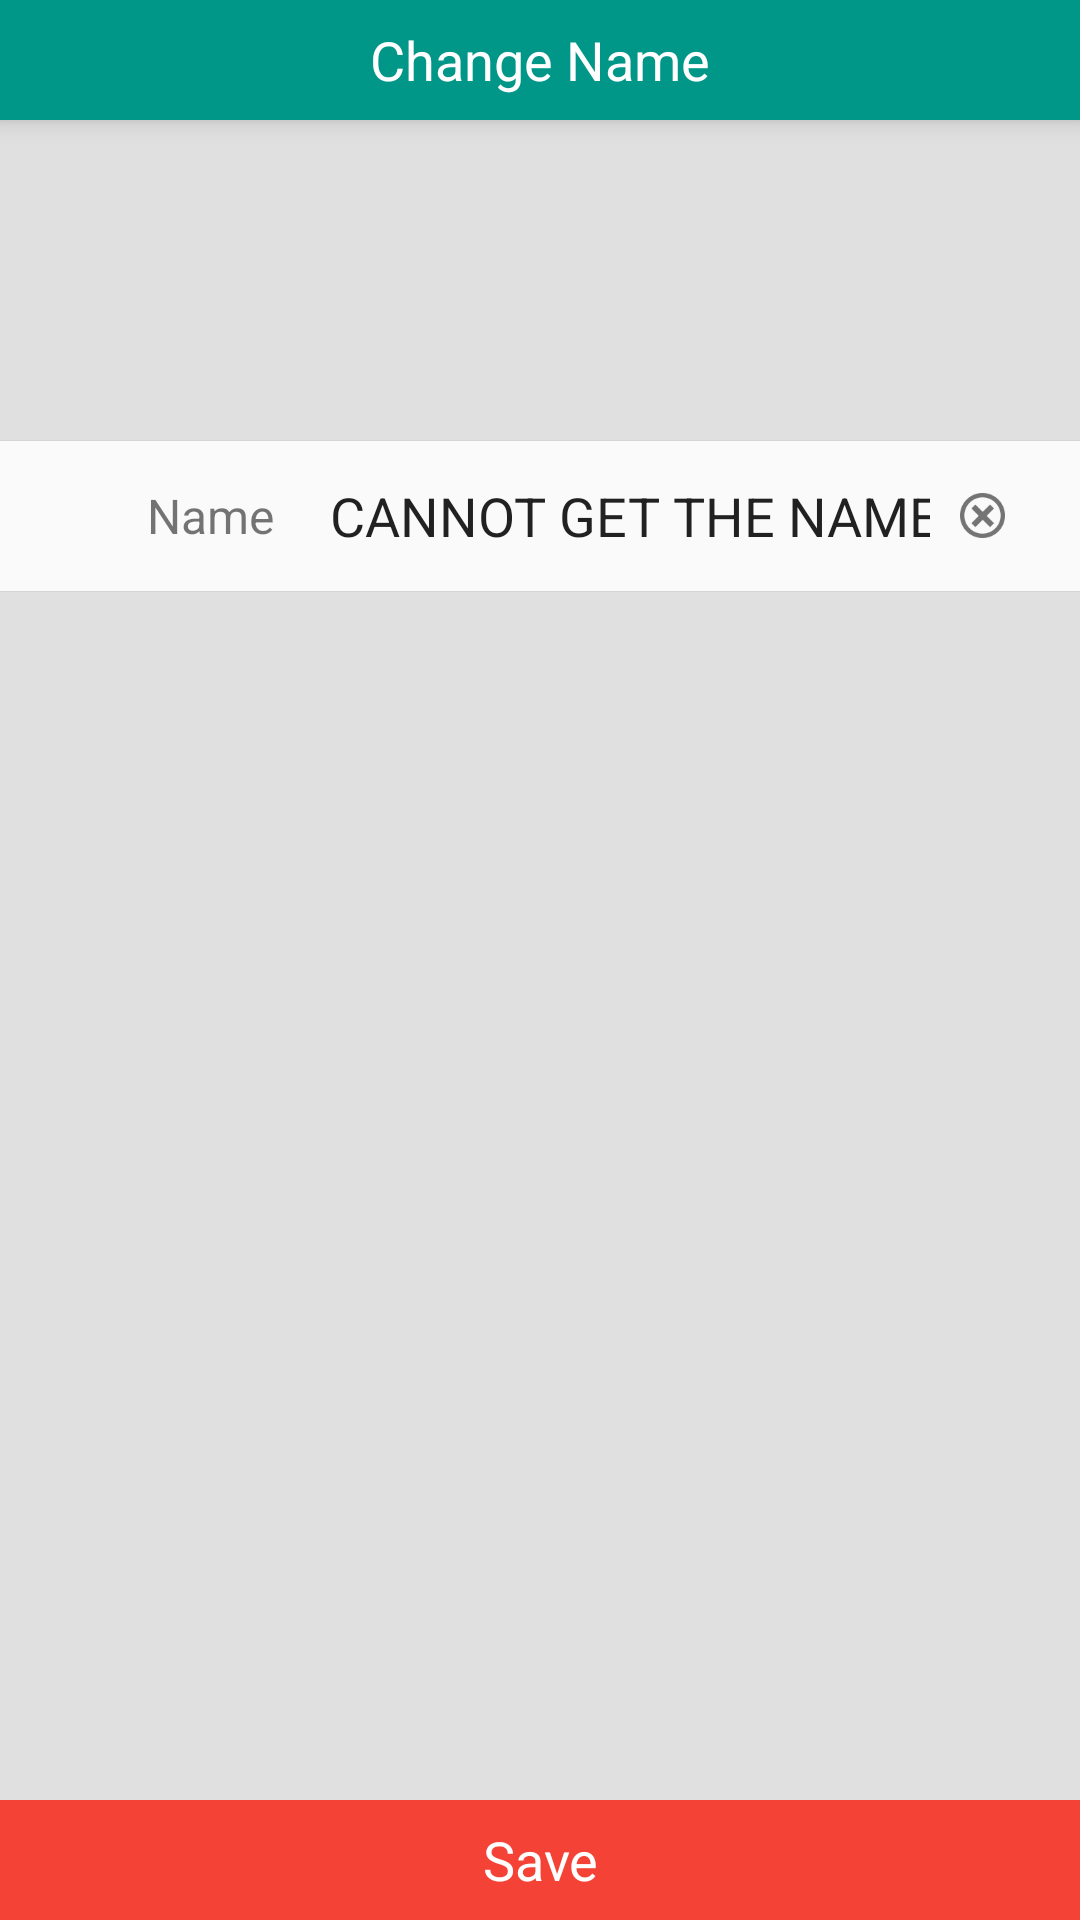

Icon click points for this 1080 × 1920 phone screenshot, format [x,y]:
delete name: [982,515]
